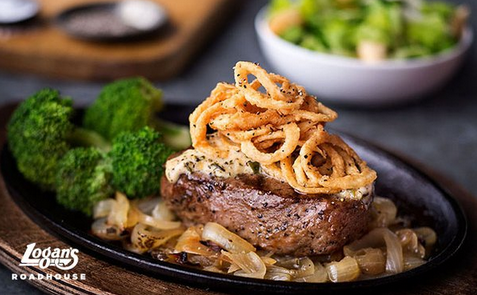curry: (5, 77, 185, 220), (107, 126, 173, 200)
sushi: (254, 0, 476, 110)
